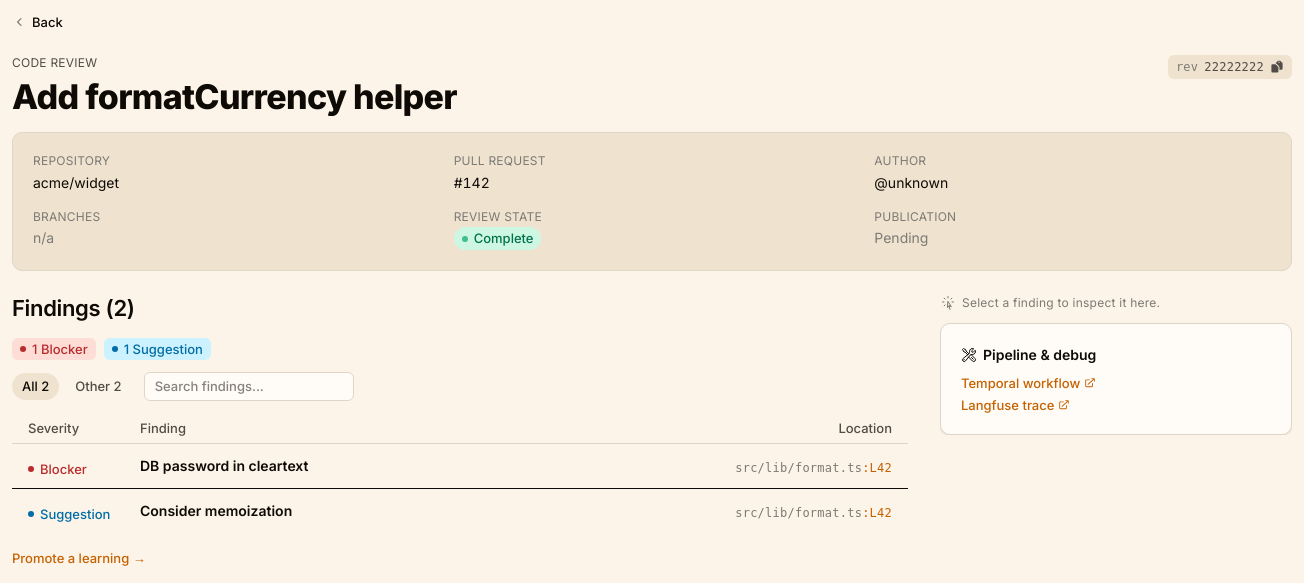
ReviewDetailPage — wiring › renders findings with severity badge, title, and body
This screenshot has width=1304, height=583.
expect the text "Consider memoization" is shown: met, box [140,502,292,519]
expect the text "Blocker" is shown: met, box [40,460,87,478]
Click the text "DB password in cleartext". click: (224, 465)
box: [140,457,308,474]
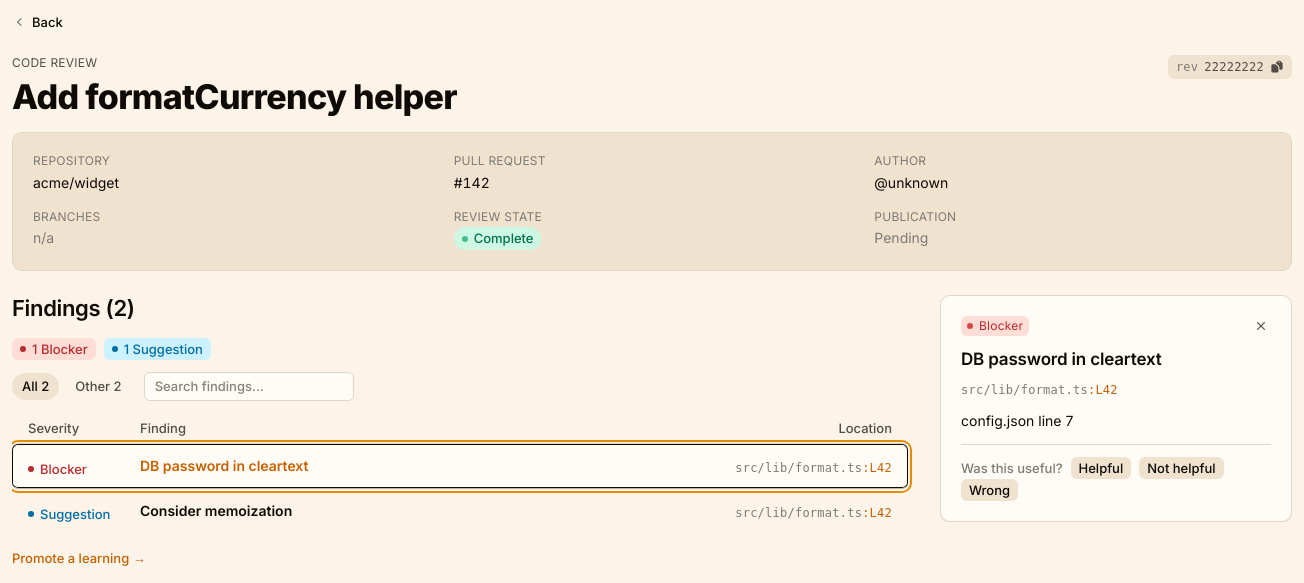
expect the text "config.json line 7" is shown: met, box [961,412,1073,429]
